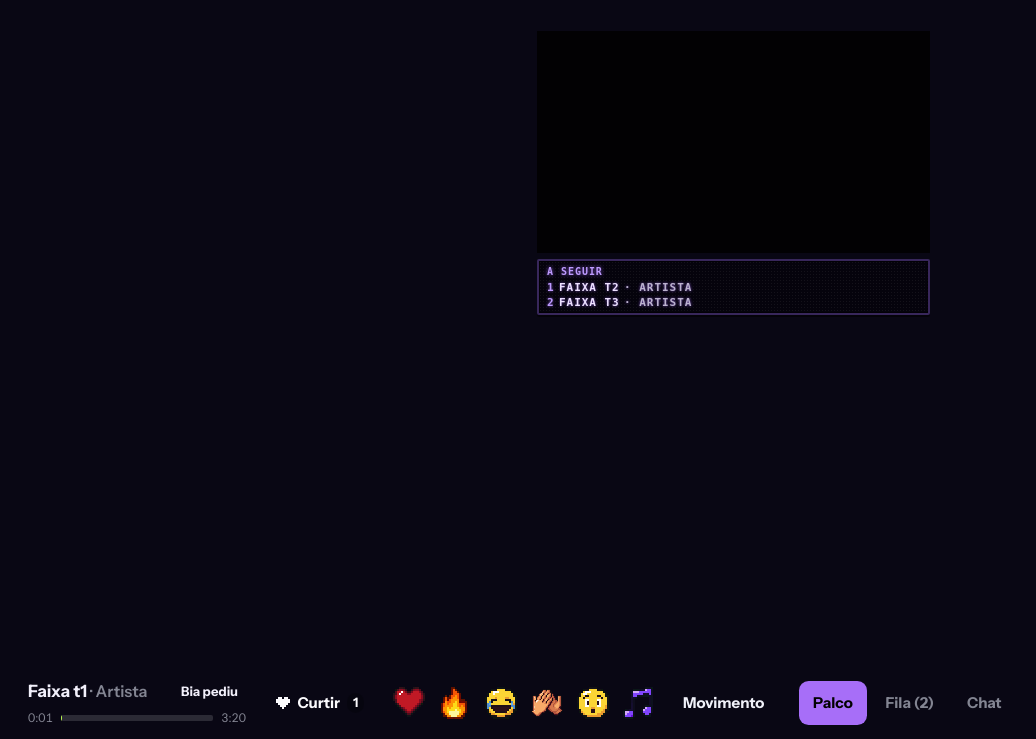
Test: PalcoView › woots a member who upvotes, a member whose reaction.woot arrives, and you on Curtir
(page scrolled)
Click the button "Curtir 1" at {"x": 320, "y": 703}, box top-left (262, 681), bottom-right (379, 725)
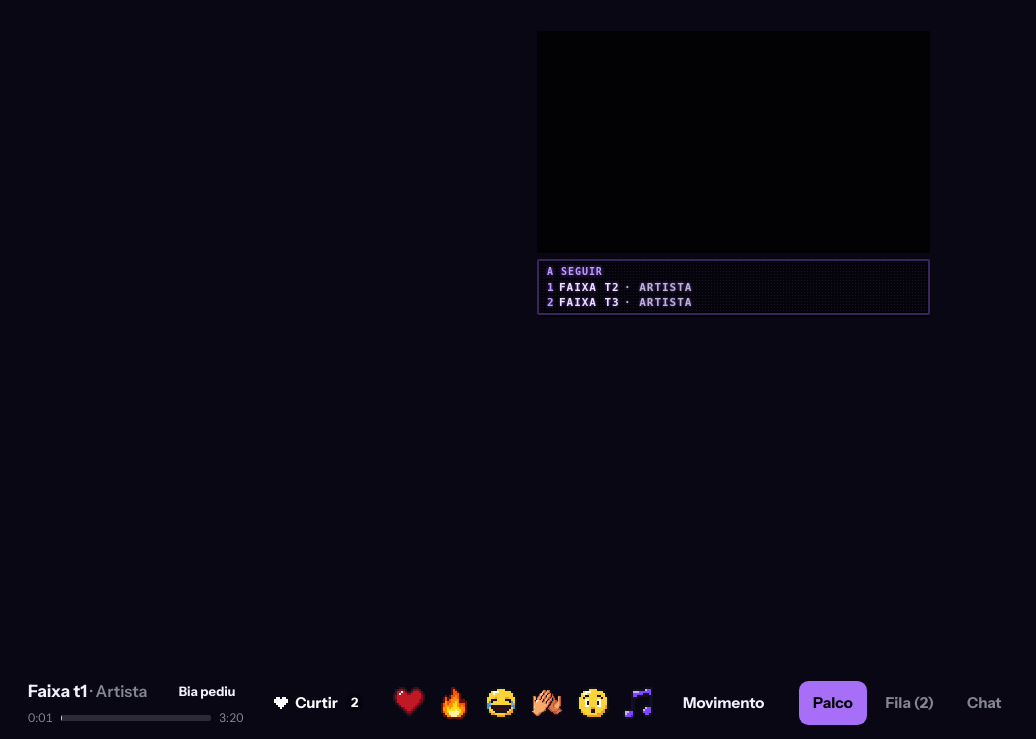
Result: the text named "2 curtidas" is shown at top-left (345, 693), bottom-right (364, 713)
